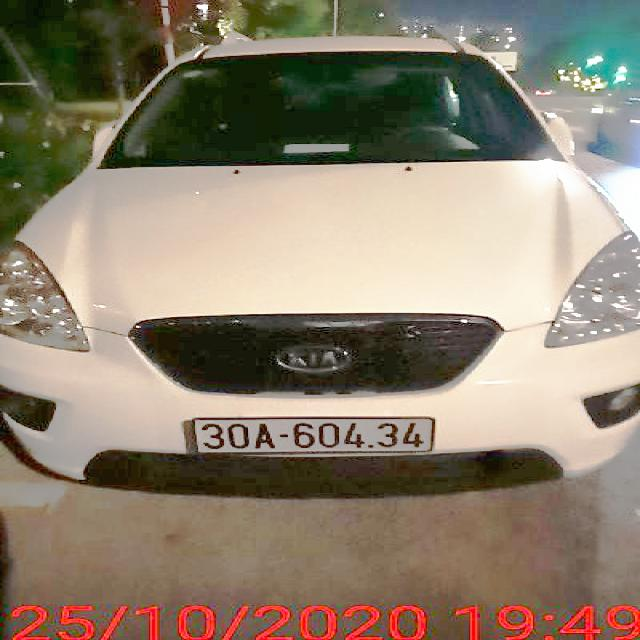license_plate: (195, 418, 436, 455)
